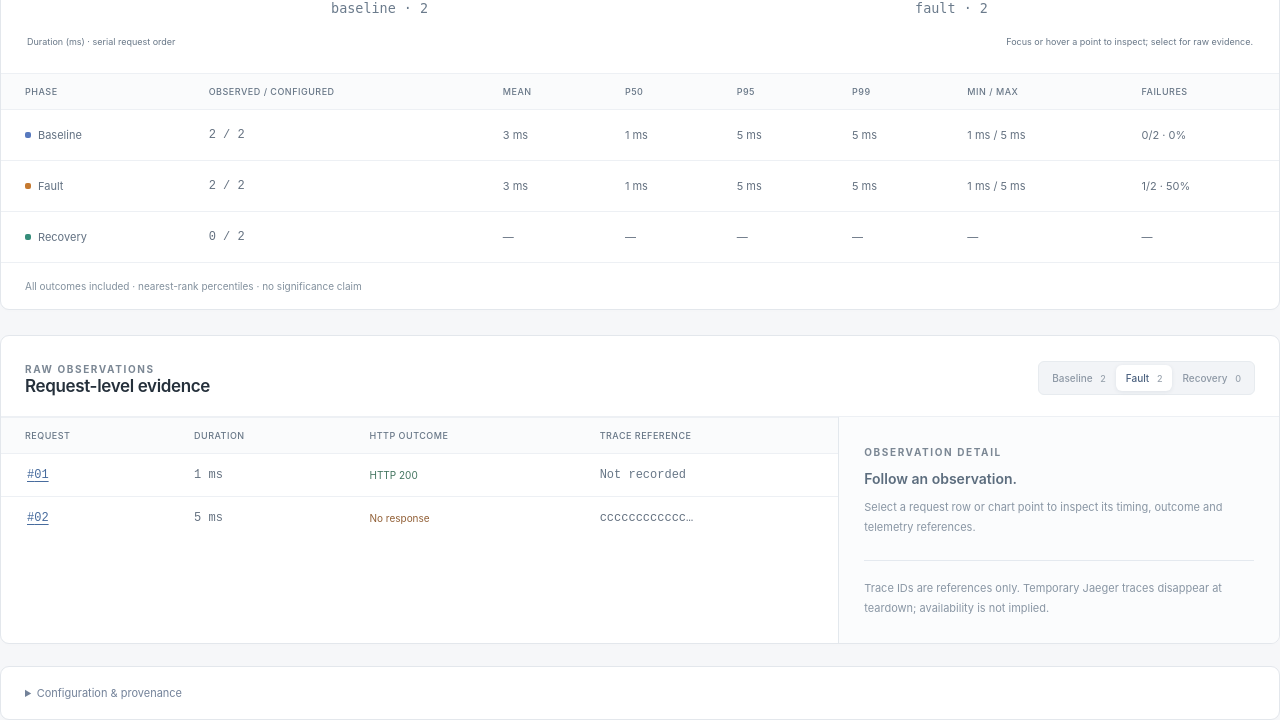
Test: missing trace references are not replaced by invented telemetry
This screenshot has width=1280, height=720.
(page scrolled)
Click the button "baseline 2": point(1079, 378) x1=1042 y1=365 x2=1116 y2=391
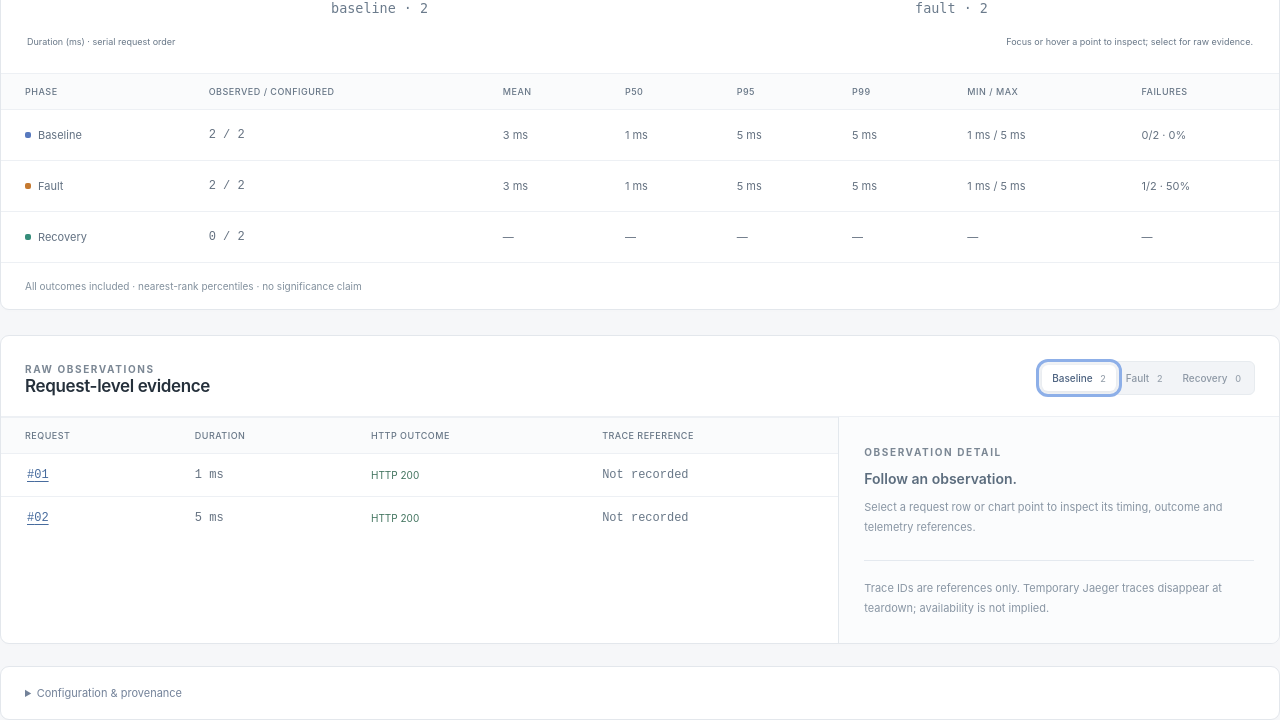
Click the button "#01": point(38, 475) x1=25 y1=466 x2=51 y2=484
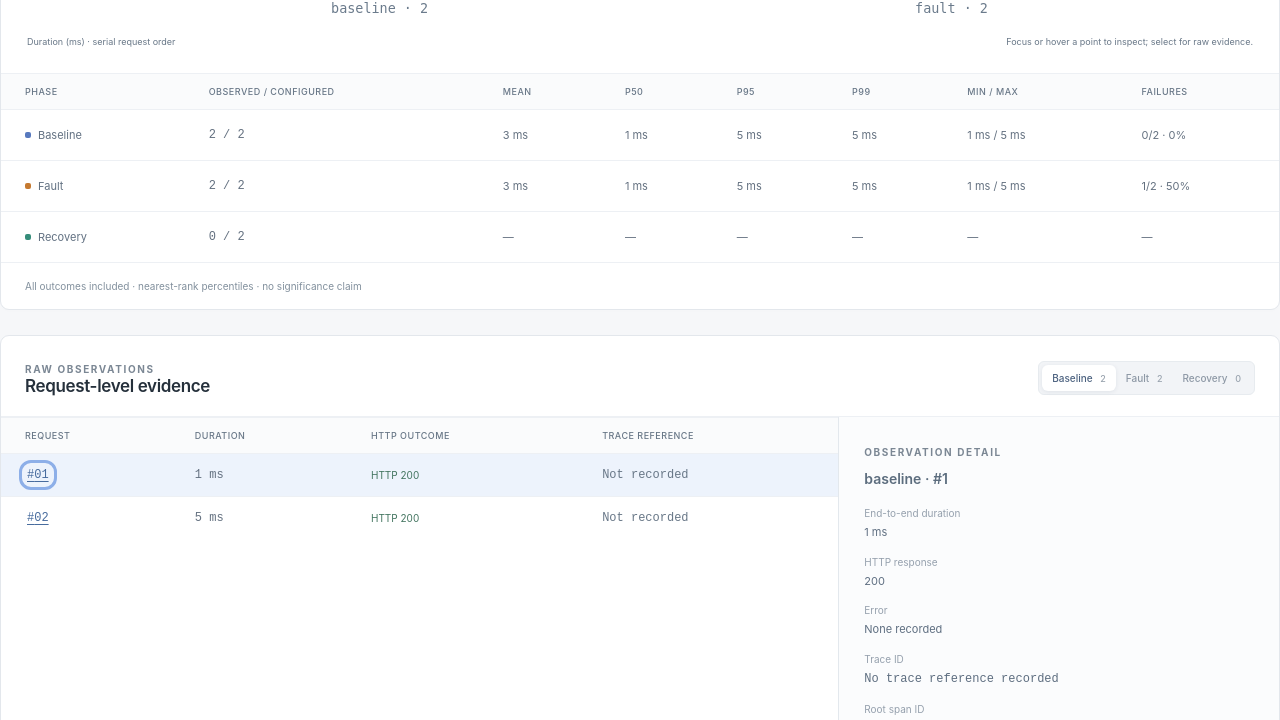
Check: the text "No trace reference recorded" is shown, box x1=864 y1=672 x2=1059 y2=686
